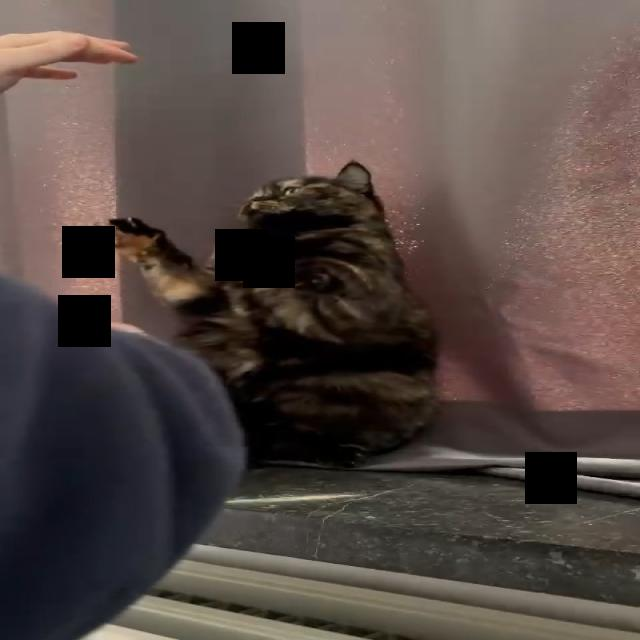authorized: (91, 158, 441, 468)
